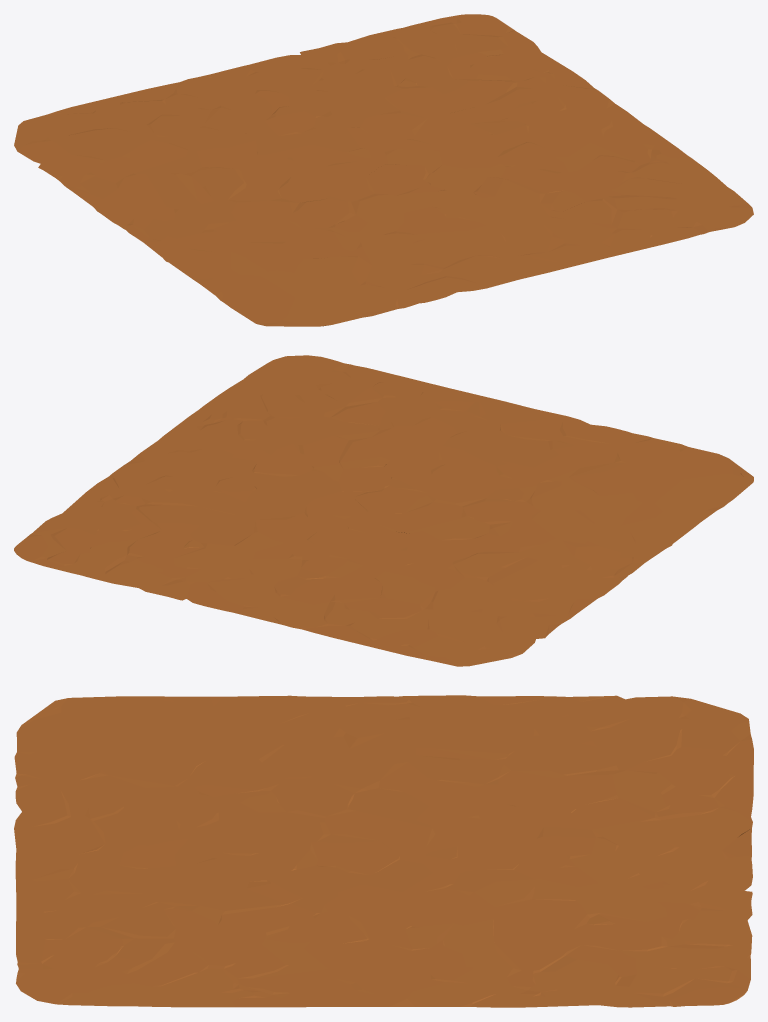
Rendered from GroundTile03.gltf.
3 views of the same model, one above another, from view 1: azimuth 30°, elevation 25°; view 2: azimuth 150°, elevation 25°; view 3: azimuth 270°, elevation 25° (orthographic). The views are drawn at different scales.
Parts seen in each view (by area): view 1: Cube.006; view 2: Cube.006; view 3: Cube.006.
Boxes of the visible parts, left/top/right/bottom form: Cube.006: left=14, top=14, right=753, bottom=326; Cube.006: left=14, top=355, right=753, bottom=666; Cube.006: left=14, top=695, right=753, bottom=1007.
Size of the model in its own units: 664 by 2.07 by 665.
